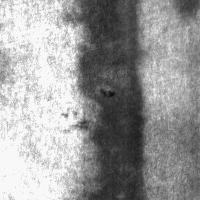patches: (77, 1, 146, 199), (76, 92, 200, 200), (128, 10, 200, 112), (114, 0, 200, 84), (172, 1, 200, 18)
